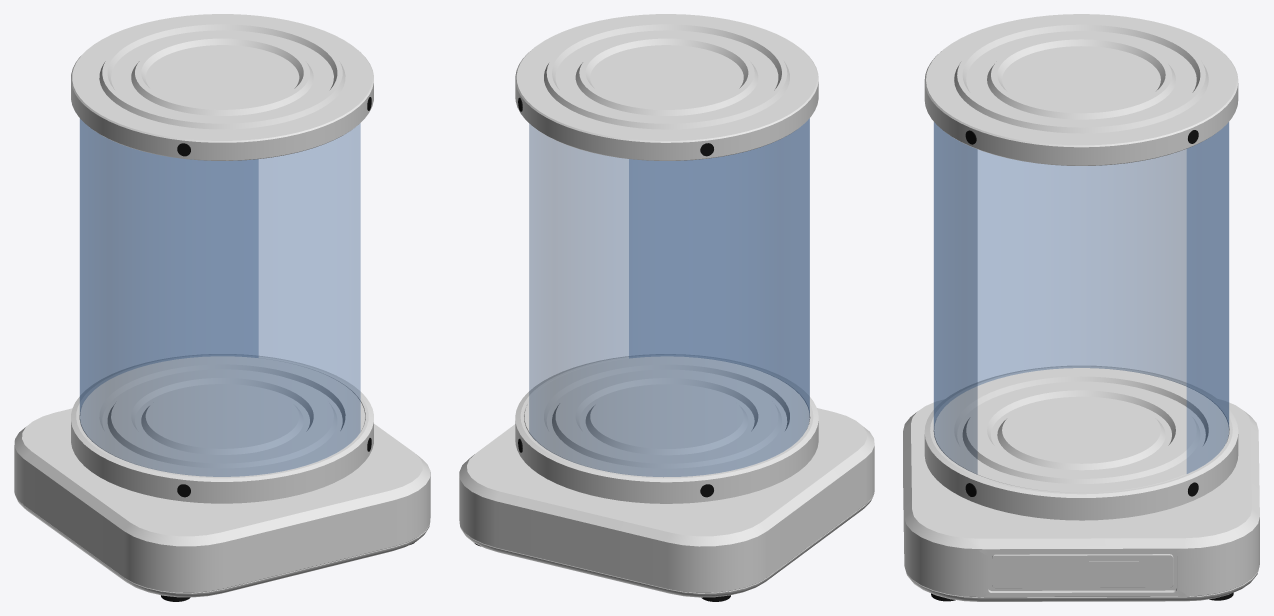
Rendered from scanner.fbx.
3 renders of one model, left to right at view 1: azimuth 30°, elevation 25°; view 2: azimuth 150°, elevation 25°; view 3: azimuth 270°, elevation 25°, orthographic. The views are drawn at different scales.
Visible parts, largest first — view 1: Scanner; view 2: Scanner; view 3: Scanner.
Boxes of the visible parts, x1,y1,x2,y2 form: Scanner: (14,14,430,601); Scanner: (459,14,874,601); Scanner: (903,14,1259,601).
Size of the model in its own units: 0.5174 by 0.5174 by 0.7393.
